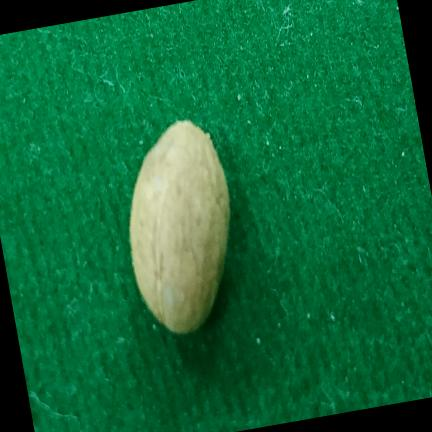good: (129, 120, 230, 333)
